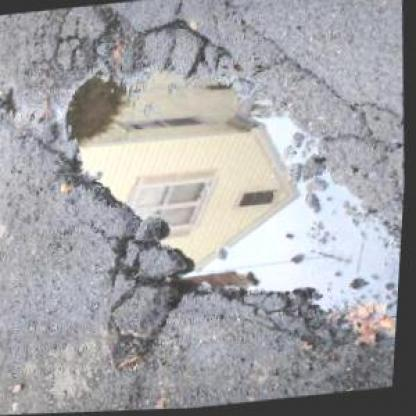pothole: (22, 0, 415, 379)
